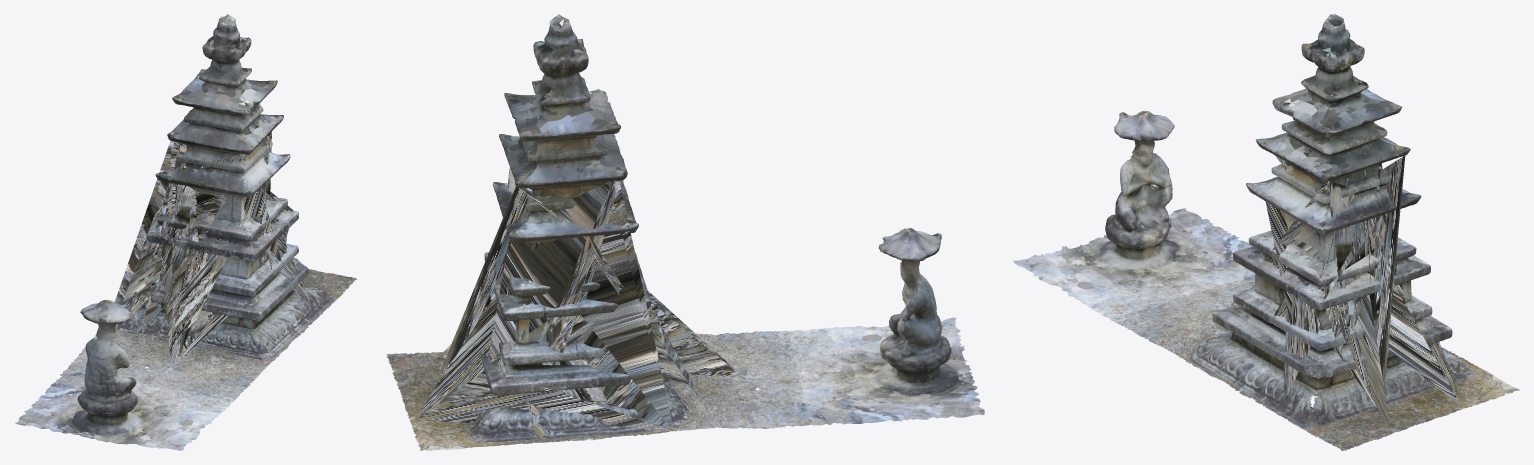
The model's file is sinbok.glb.
3 views of the same model, side by side, from view 1: azimuth 30°, elevation 25°; view 2: azimuth 150°, elevation 25°; view 3: azimuth 270°, elevation 25° (orthographic). The views are drawn at different scales.
Visible parts, largest first — view 1: Stereo textured mesh, Stereo textured mesh_Material1_0.001, Stereo textured mesh_Material0_0.001; view 2: Stereo textured mesh, Stereo textured mesh_Material1_0.001, Stereo textured mesh_Material0_0.001; view 3: Stereo textured mesh, Stereo textured mesh_Material1_0.001, Stereo textured mesh_Material0_0.001.
Boxes of the visible parts, box(x1,y1,x2,y2) form: Stereo textured mesh: box(16, 14, 356, 450); Stereo textured mesh_Material1_0.001: box(15, 16, 346, 450); Stereo textured mesh_Material0_0.001: box(34, 17, 352, 448); Stereo textured mesh: box(386, 14, 984, 450); Stereo textured mesh_Material1_0.001: box(393, 17, 984, 448); Stereo textured mesh_Material0_0.001: box(388, 18, 980, 450); Stereo textured mesh: box(1013, 14, 1519, 450); Stereo textured mesh_Material1_0.001: box(1015, 14, 1512, 445); Stereo textured mesh_Material0_0.001: box(1024, 14, 1516, 446).
Bounding box in the file's own units: 6.78 × 4.76 × 6.09.
Materials: 2 (2 with a texture image).
